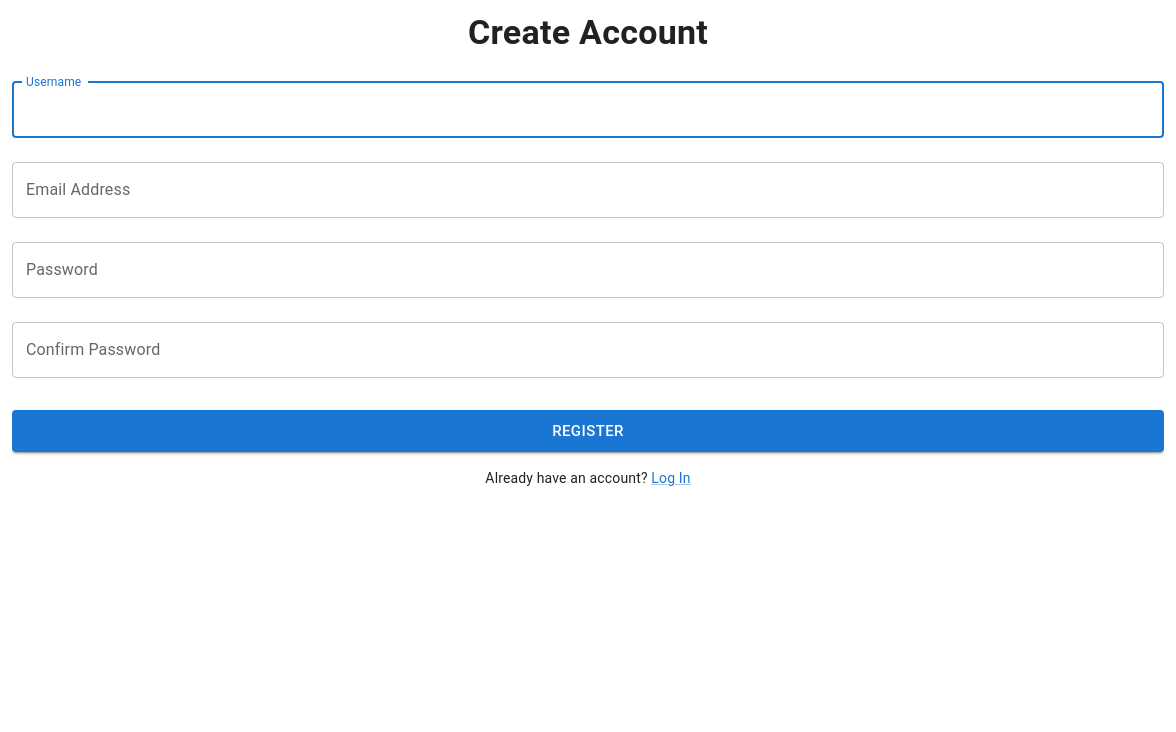
Test: RegisterForm › shows validation errors for empty fields
This screenshot has width=1176, height=732.
Click the button "Register" at (588, 431), box [12,410,1164,452]
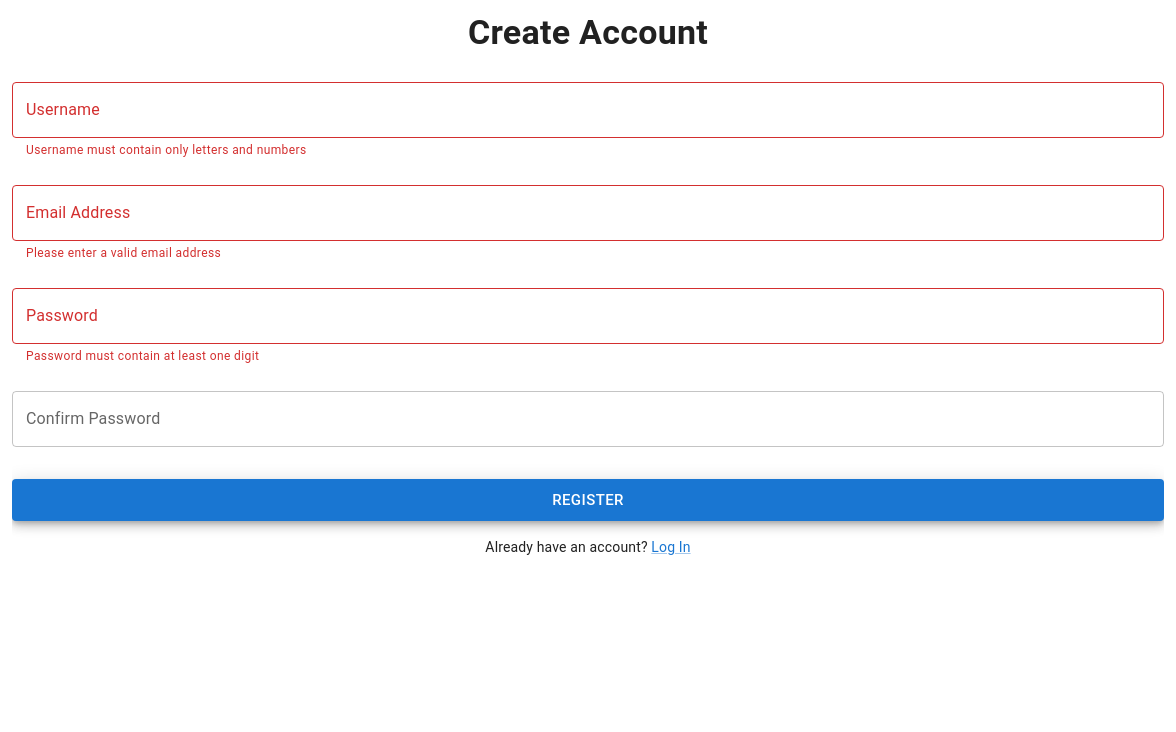
Expected: the text "Username must contain only letters and numbers" is shown, [26,143,307,157]
